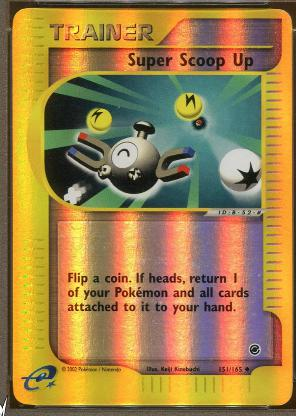Card: (10, 6, 294, 408)
